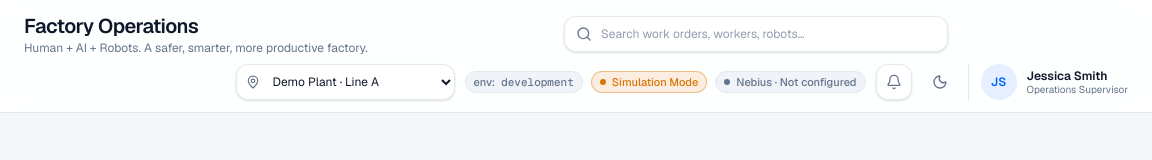
Scenario: App shell › filters via the header search input
The image size is (1152, 160).
Type "lathe" into the search field named "Filter tables" at [756, 34], box [564, 16, 948, 52]
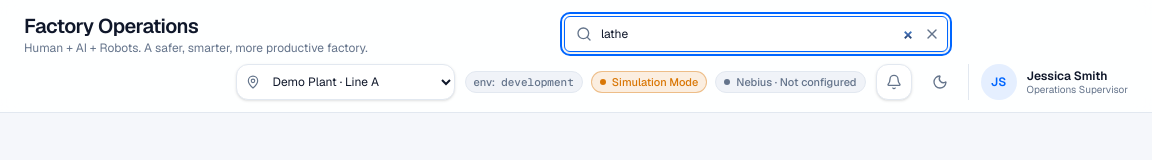
Click the button named "Clear filter" at [932, 34], box [924, 26, 940, 42]
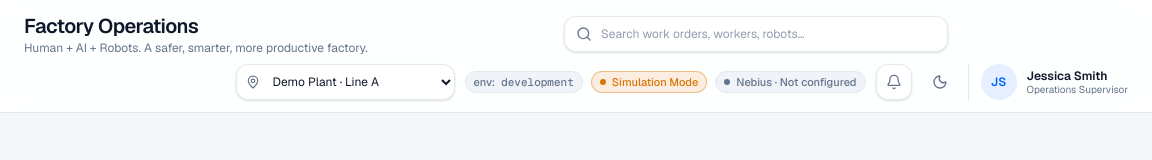
Result: the search field named "Filter tables" is empty at [564, 16, 948, 52]
